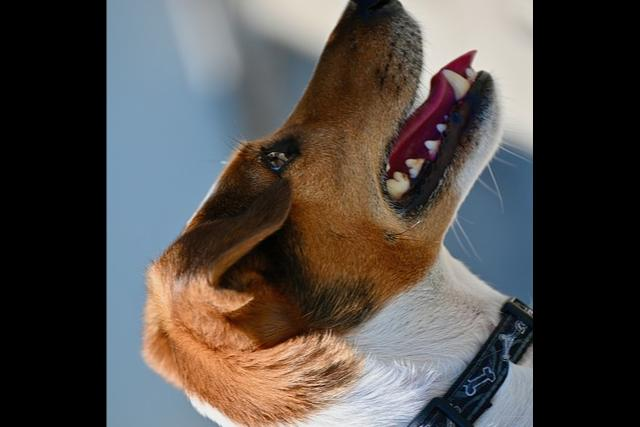Non_Gorille: (124, 0, 531, 427)
